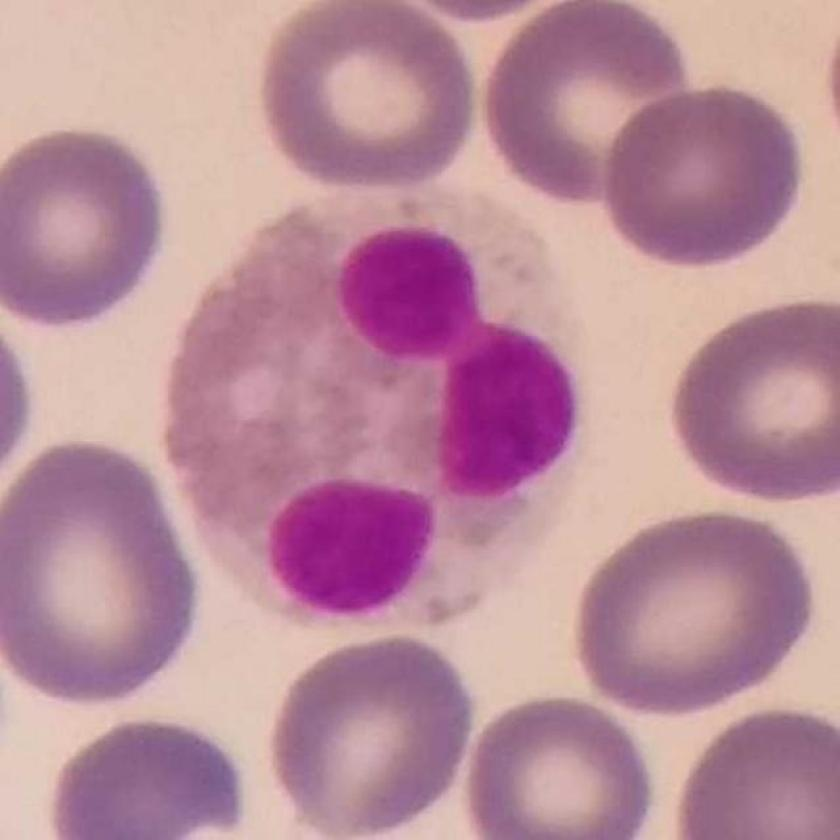eosinophil: (165, 176, 585, 636)
